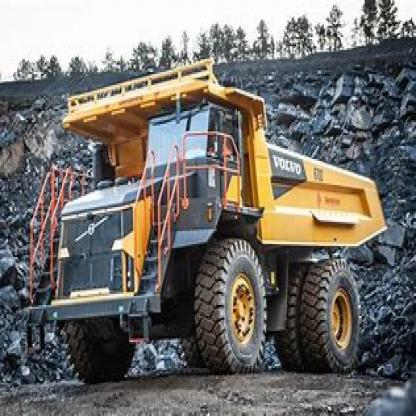dump_truck: (21, 59, 386, 375)
